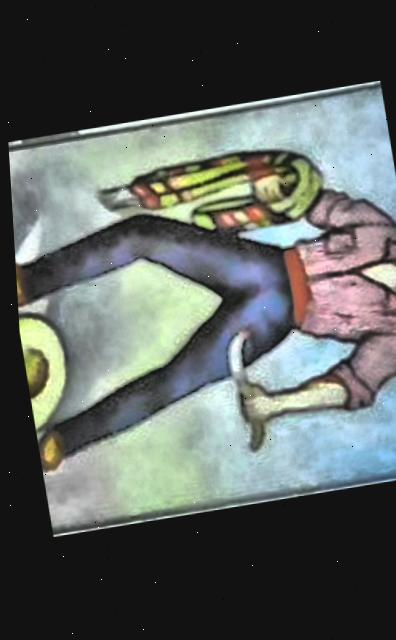El Valiente: (5, 93, 396, 532)
